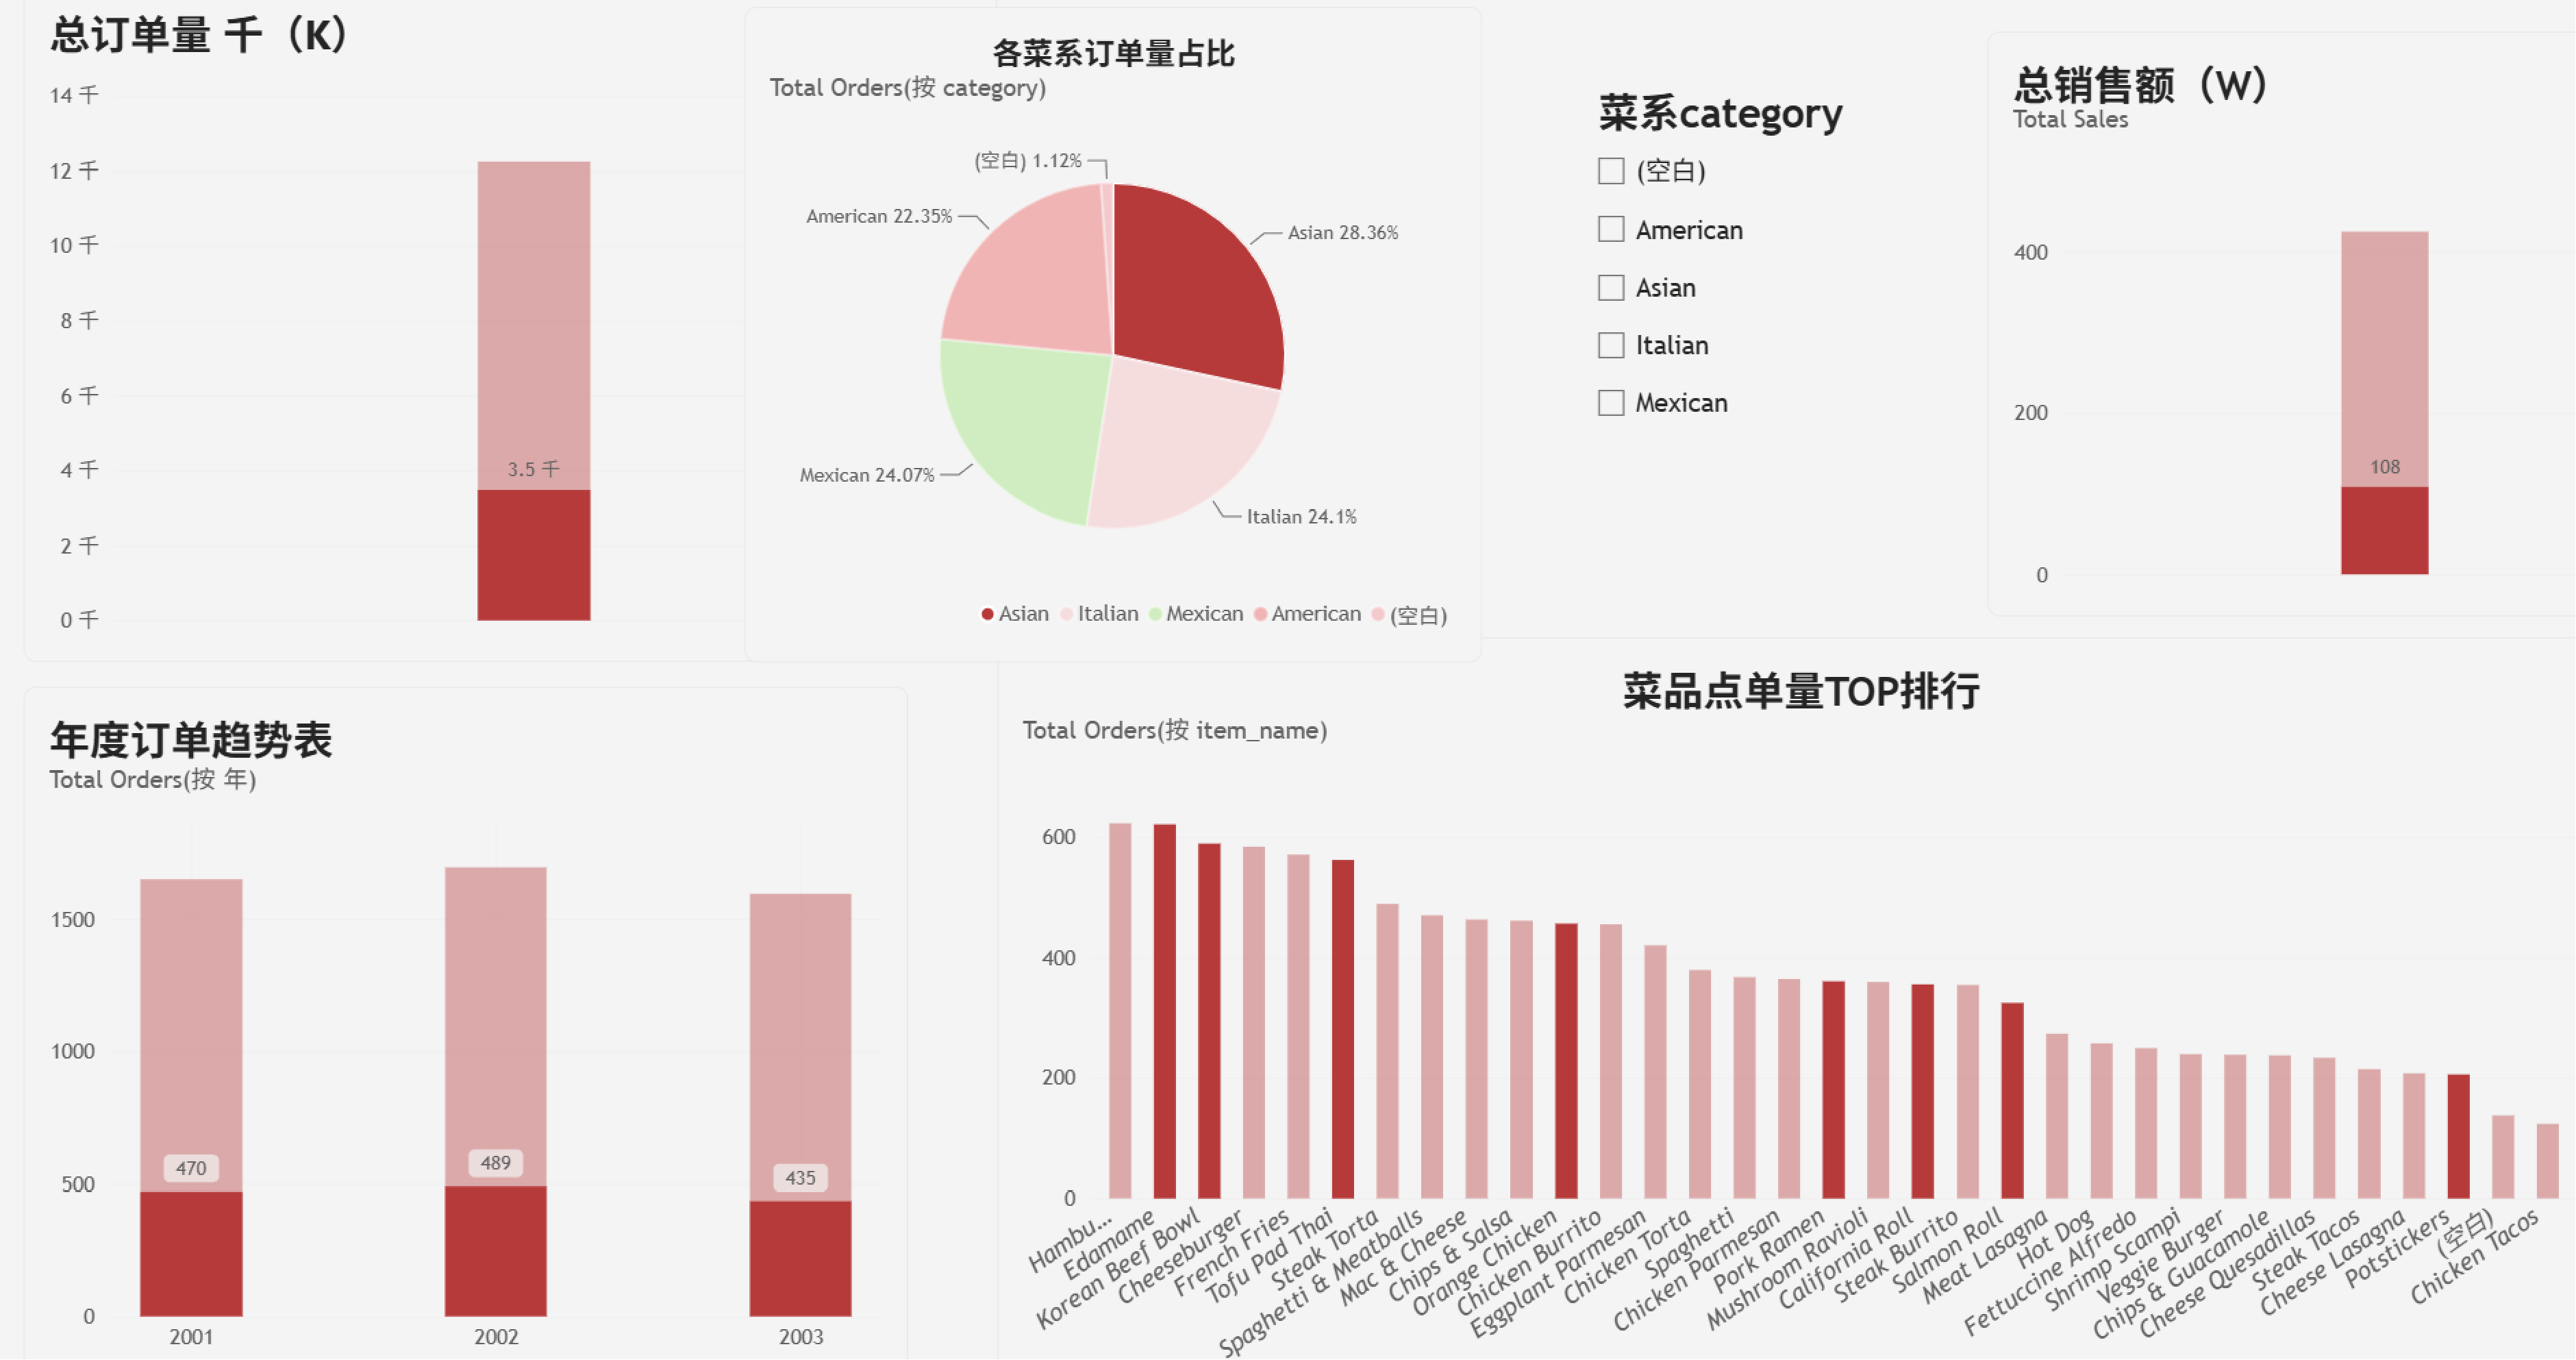

The page's visual inventory and layout, read from the dashboard file:
{"tool":"powerbi","page":{"name":"第 1 页","canvas":[1920,1080],"ordinal":0},"visuals":[{"type":"lineStackedColumnComboChart","title":"年度订单趋势表","fields":{"Category":["order_details.order_date.Variation.日期层次结构.年","order_details.order_date.Variation.日期层次结构.季度","order_details.order_date.Variation.日期层次结构.月份","order_details.order_date.Variation.日期层次结构.日"],"Y":["menu_items.Total Orders"]},"box":[96,560,581.4,457.1],"z":0},{"type":"lineStackedColumnComboChart","title":"菜品点单量TOP排行","fields":{"Category":["menu_items.item_name"],"Y":["menu_items.Total Orders"]},"box":[736,528,1056,512],"z":1000},{"type":"clusteredColumnChart","title":"总订单量  千（K）","fields":{"Y":["menu_items.Total Orders"]},"box":[96,96,640,448],"z":2000},{"type":"clusteredColumnChart","title":"总销售额（W）","fields":{"Y":["menu_items.Total Sales"]},"box":[1168.4,112.2,624,384],"z":3000},{"type":"textbox","box":[336,32,1264,80],"z":4000},{"type":"slicer","fields":{"Values":["menu_items.category"]},"box":[848,160,224,320],"z":5000}]}

Visuals, with their boxes on the page's 1920x1080 design canvas (x1, y1, x2, y2). These are canvas units, not pixel positions in the 2576x1360 screenshot, which may show the page scaled, cropped or inside an application window:
"年度订单趋势表" lineStackedColumnComboChart: {"x1": 96, "y1": 560, "x2": 677, "y2": 1017}
"菜品点单量TOP排行" lineStackedColumnComboChart: {"x1": 736, "y1": 528, "x2": 1792, "y2": 1040}
"总订单量  千（K）" clusteredColumnChart: {"x1": 96, "y1": 96, "x2": 736, "y2": 544}
"总销售额（W）" clusteredColumnChart: {"x1": 1168, "y1": 112, "x2": 1792, "y2": 496}
textbox: {"x1": 336, "y1": 32, "x2": 1600, "y2": 112}
slicer - menu_items.category: {"x1": 848, "y1": 160, "x2": 1072, "y2": 480}
